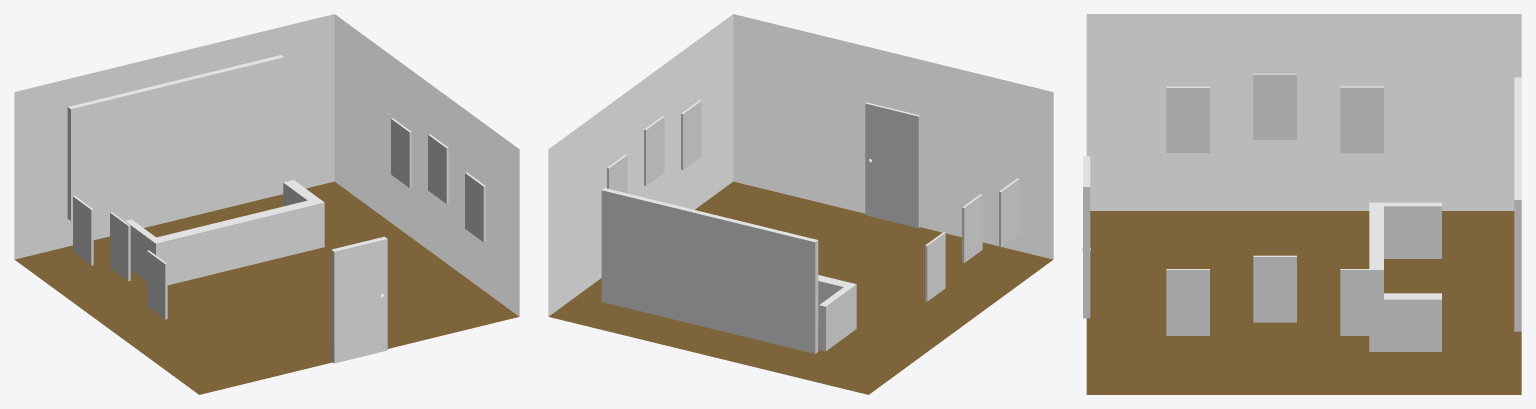
The model's file is room.glb.
3 views of the same model, side by side, from view 1: azimuth 30°, elevation 25°; view 2: azimuth 150°, elevation 25°; view 3: azimuth 270°, elevation 25° (orthographic). The views are drawn at different scales.
Visible parts, largest first — view 1: Plane (×2), Box (×11), Floor; view 2: Plane (×2), Box (×10), Floor; view 3: Plane, Floor, Box (×11).
Part boxes in pixels (<box>): Plane (×2): <box>14,14,519,316</box>; Box (×11): <box>67,55,485,363</box>; Floor: <box>15,181,518,394</box>; Plane (×2): <box>548,14,1053,316</box>; Box (×10): <box>601,100,1019,353</box>; Floor: <box>549,181,1052,394</box>; Plane: <box>1086,14,1521,210</box>; Floor: <box>1086,211,1521,394</box>; Box (×11): <box>1083,73,1521,351</box>.
Size of the model in its own units: 30 by 15 by 30.29.
